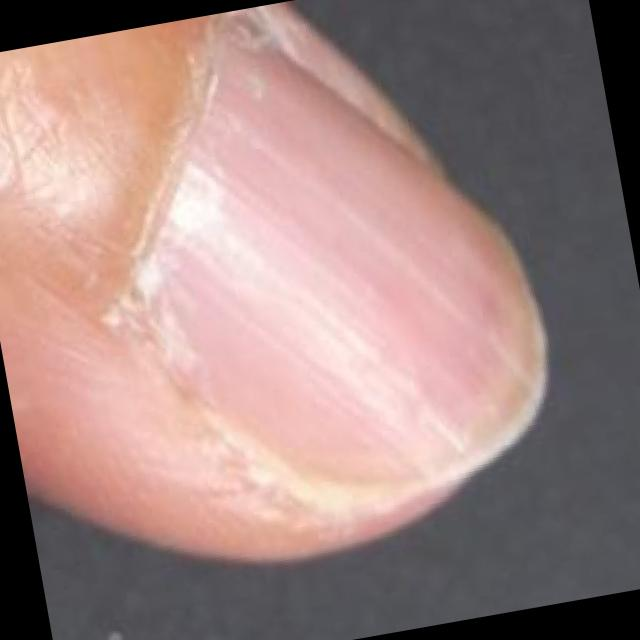Nail: (117, 24, 548, 509)
